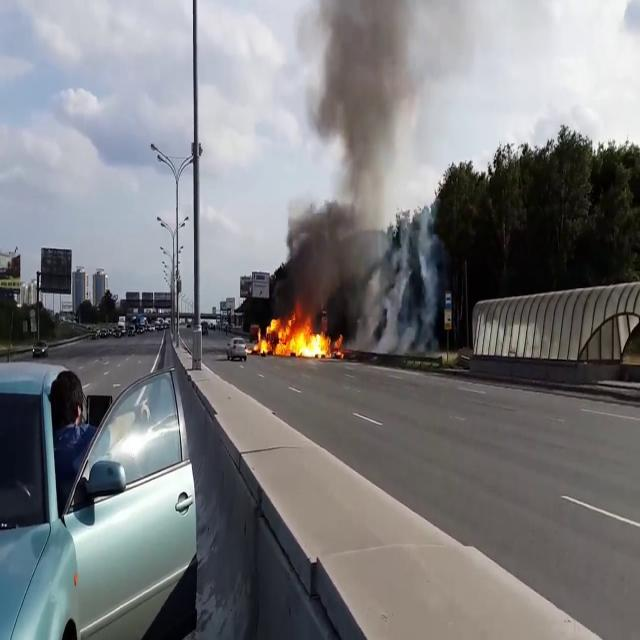Fire: (256, 310, 334, 360)
Smoke: (276, 1, 437, 327)
